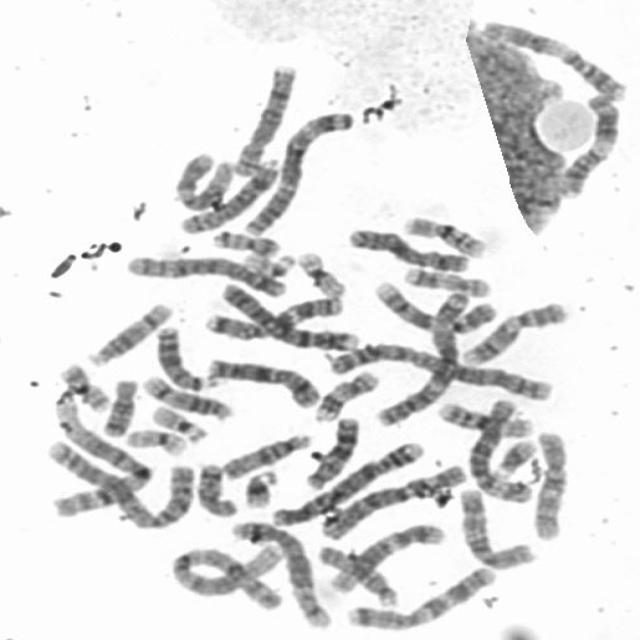A1: (51, 388, 154, 518), (169, 543, 283, 612)
A2: (328, 341, 554, 402), (45, 439, 196, 530)
A3: (242, 112, 356, 237), (373, 291, 470, 428)
B4: (271, 441, 425, 527), (222, 283, 361, 353)
B5: (230, 520, 332, 628), (127, 256, 288, 299)
C10: (459, 488, 538, 570), (533, 430, 569, 540)
C11: (483, 22, 629, 101), (563, 96, 619, 197)
C12: (329, 523, 446, 593), (174, 152, 234, 212)
C6: (321, 463, 467, 540), (467, 400, 533, 505)
C7: (346, 566, 497, 631), (204, 296, 344, 342)
C8: (182, 158, 282, 233), (234, 65, 297, 177)
C9: (461, 302, 569, 364), (373, 282, 496, 334)
D13: (155, 324, 220, 392), (306, 418, 362, 490)
D14: (87, 303, 174, 366), (141, 376, 236, 422)
D15: (316, 545, 399, 608), (221, 432, 313, 480)
E16: (403, 214, 487, 258), (436, 402, 534, 439)
E17: (317, 370, 380, 422), (403, 267, 492, 299)
E18: (196, 464, 240, 518), (102, 378, 139, 438)
F19: (294, 252, 346, 298), (124, 428, 189, 458)
F20: (58, 362, 112, 412), (211, 229, 280, 257)
G21: (491, 439, 538, 481), (243, 468, 280, 508)
G22: (150, 405, 209, 444), (241, 254, 296, 277)
X: (206, 358, 320, 408), (346, 228, 469, 274)
